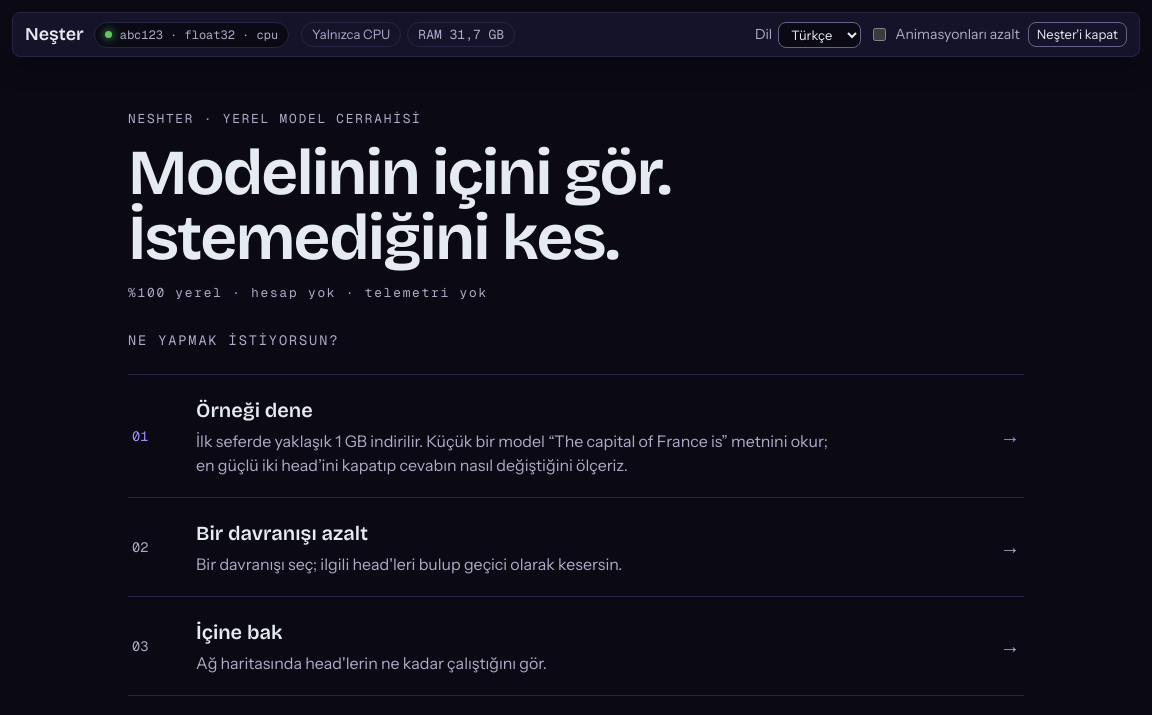
Test: Kapat shuts the server down and shows the closed screen
Expected: the heading "Ne yapmak istiyorsun?" is shown, [128,331,339,349]
Click the button "Neşter'i kapat" at (1077, 35), box [1028,22,1127,47]
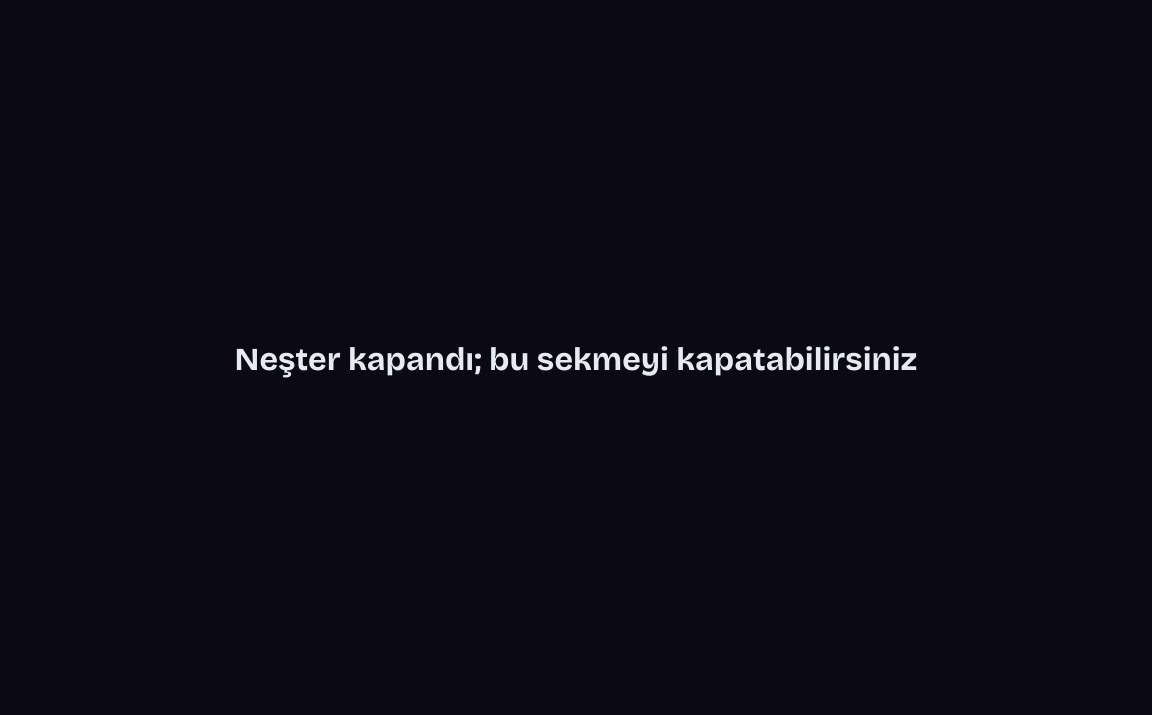
Now the heading "Neşter kapandı; bu sekmeyi kapatabilirsiniz" is shown, box [235,336,917,384]
